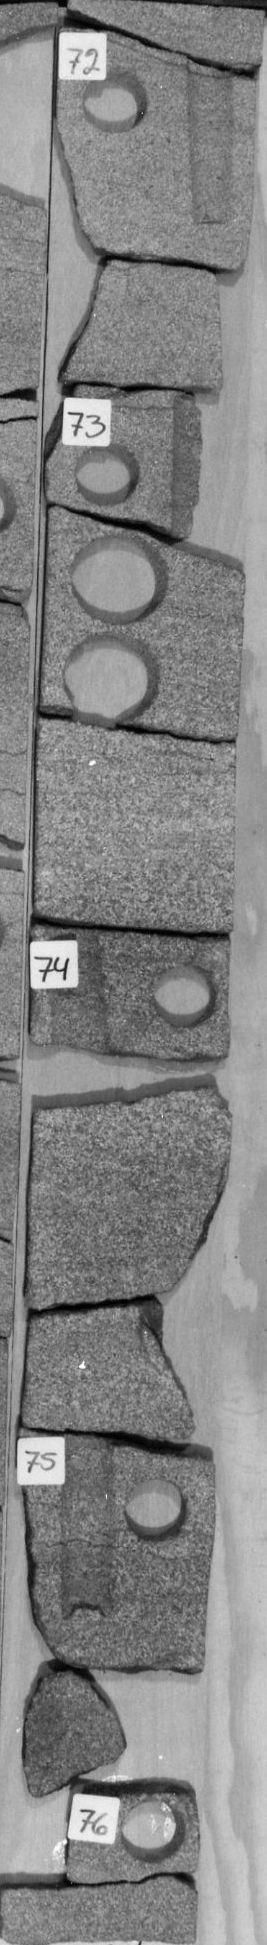hplug: (142, 957, 222, 1035), (68, 439, 150, 515), (78, 63, 158, 139), (120, 1475, 192, 1547), (118, 1795, 190, 1867)
scal: (60, 631, 166, 737), (64, 529, 170, 631)
vplug: (172, 47, 242, 231), (58, 1435, 124, 1623), (40, 921, 120, 1061), (162, 377, 224, 545), (20, 1791, 84, 1897)
